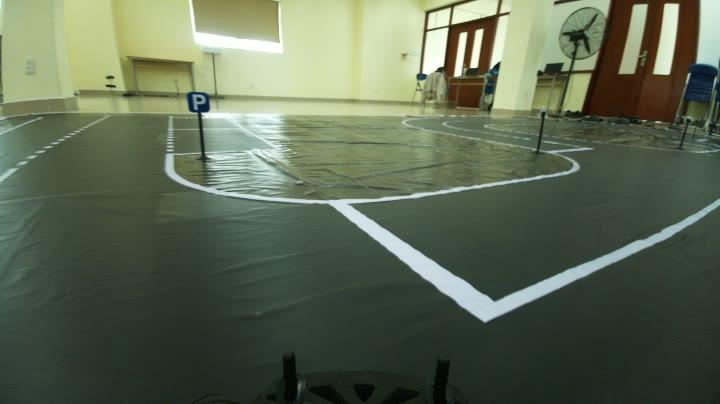parking: (188, 88, 214, 117)
